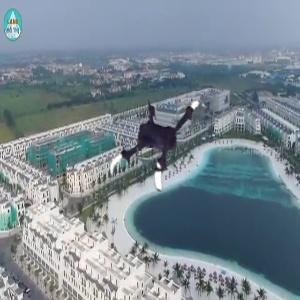drone: (102, 89, 222, 209)
